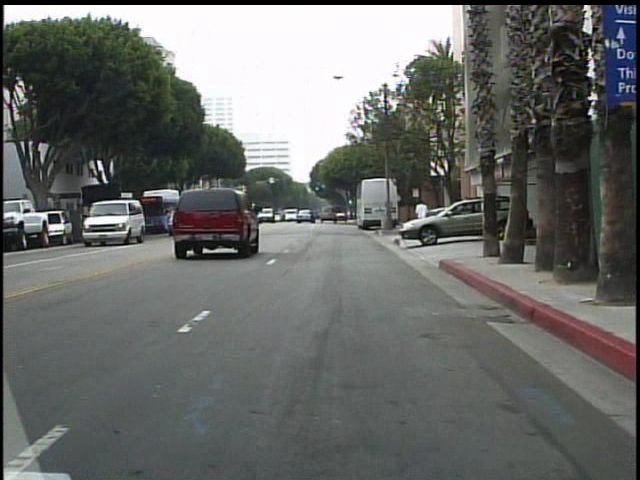person: (412, 195, 432, 239)
